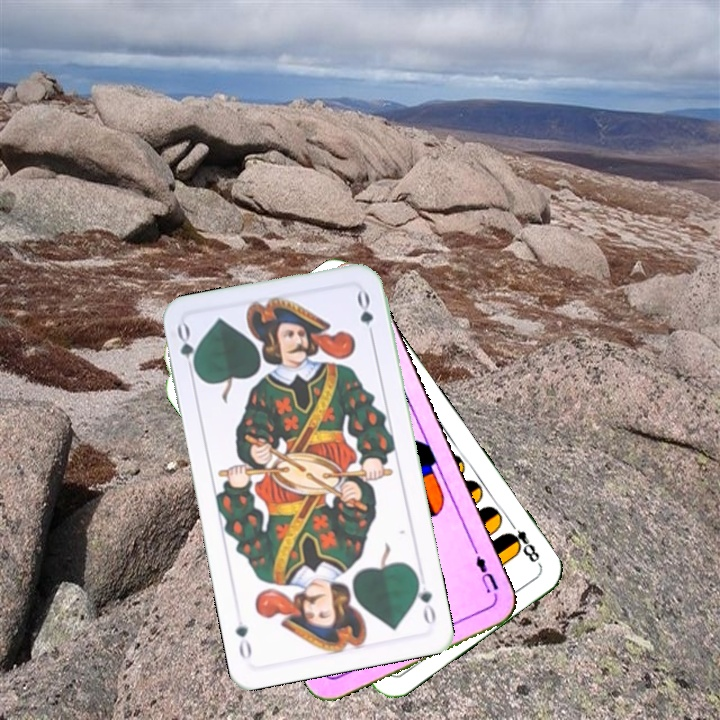E8: (501, 516, 543, 568)
EU: (471, 551, 501, 601)
GO: (172, 320, 201, 380), (411, 571, 439, 628)
